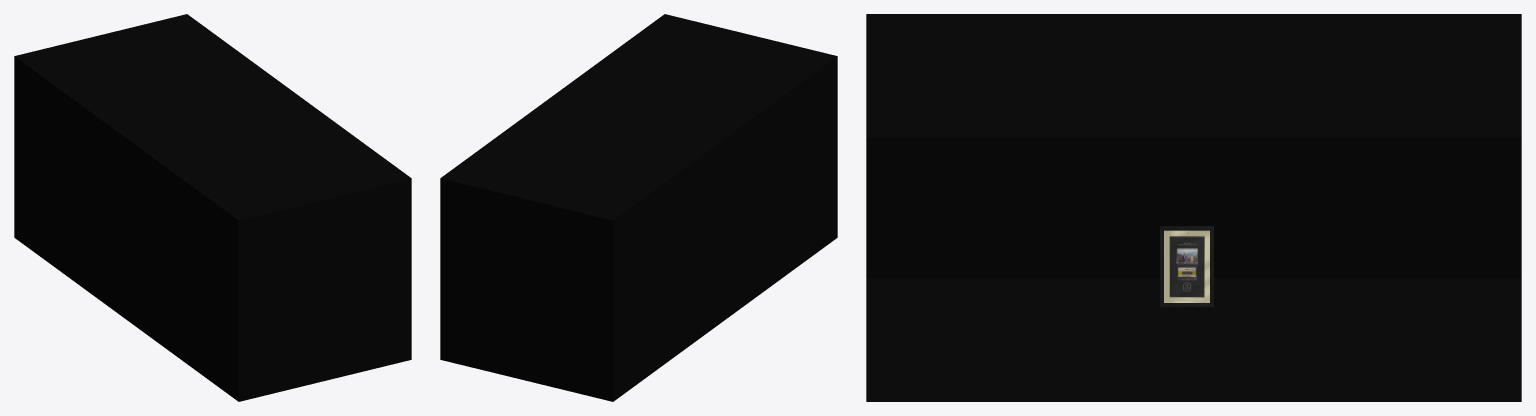
File: portaretratos1.glb
The picture shows the model from 3 angles, left to right: view 1: azimuth 30°, elevation 25°; view 2: azimuth 150°, elevation 25°; view 3: azimuth 270°, elevation 25°; orthographic projection. The views are drawn at different scales.
Parts seen in each view (by area): view 1: Cubo; view 2: Cubo; view 3: Cubo, portada, estructura.
Part boxes in pixels (x1=…): Cubo: x1=14, y1=14, x2=411, y2=401; Cubo: x1=440, y1=14, x2=837, y2=401; Cubo: x1=866, y1=14, x2=1521, y2=401; portada: x1=1164, y1=230, x2=1209, y2=302; estructura: x1=1160, y1=226, x2=1213, y2=306.
Bounding box in the file's own units: 6.21 × 6.25 × 13.98.
4 materials, 3 textured.
